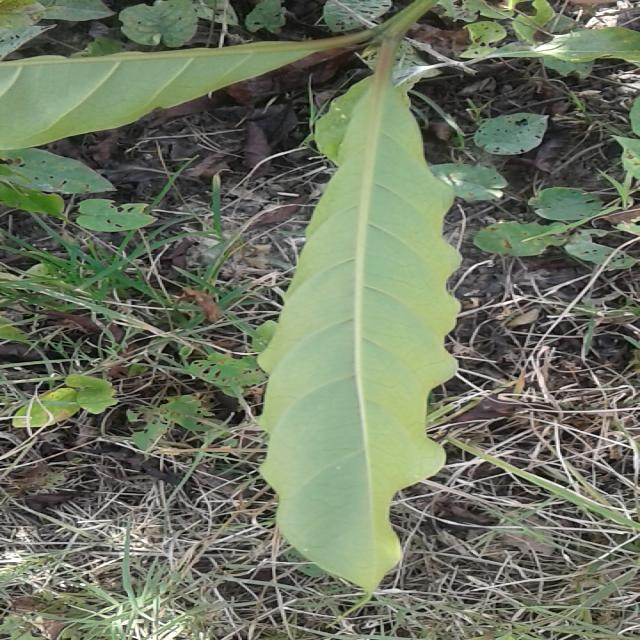Sanas: (257, 64, 461, 599)
